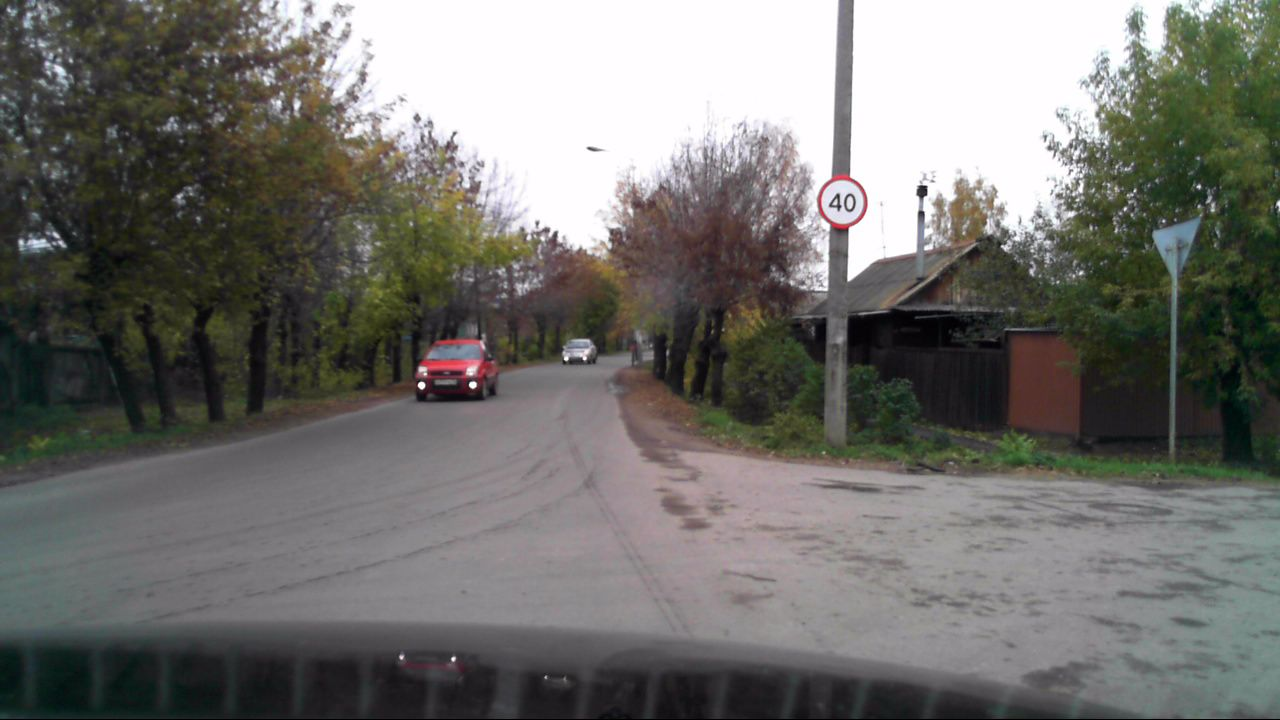speed_warning_40: (817, 175, 868, 229)
